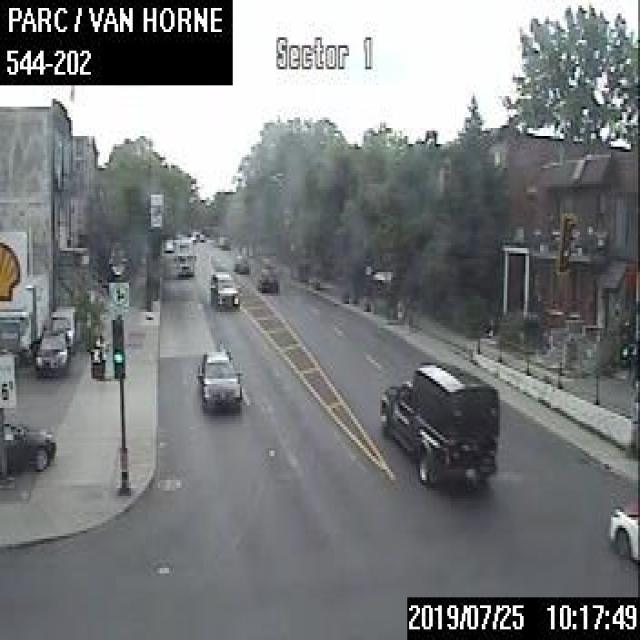vehicle: (378, 356, 498, 491), (3, 415, 54, 473), (196, 344, 240, 411), (604, 504, 638, 563), (46, 305, 79, 352), (34, 330, 69, 373), (208, 270, 238, 310), (173, 234, 195, 276), (256, 267, 276, 290), (233, 252, 249, 270), (216, 235, 229, 249), (163, 236, 173, 252)
